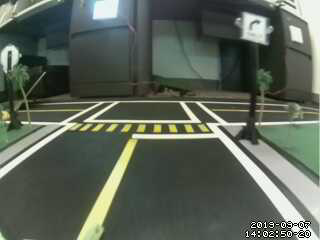Right_only_sign: (237, 8, 271, 44)
